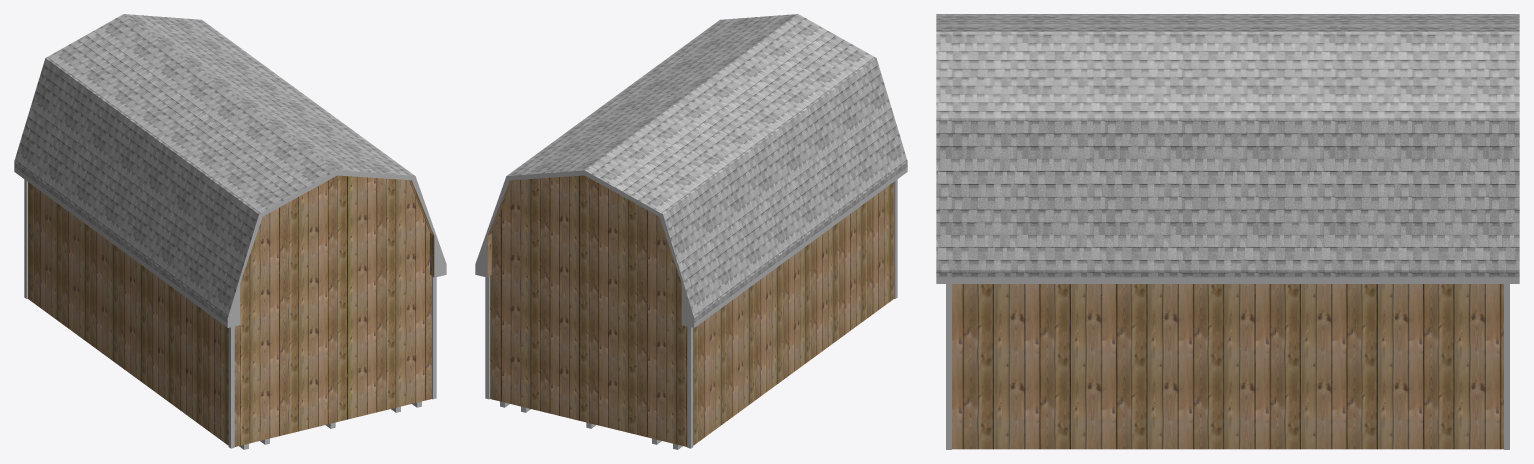
Rendered from Two Story Gambrel_14x24.obj.
The picture shows the model from 3 angles, left to right: view 1: azimuth 30°, elevation 25°; view 2: azimuth 150°, elevation 25°; view 3: azimuth 270°, elevation 25°; orthographic projection. The views are drawn at different scales.
Visible parts, largest first — view 1: Shed, Roof, Sides, Trim; view 2: Shed, Roof, Sides, Trim; view 3: Roof, Shed, Sides, Trim.
Part boxes in pixels (x1=…): Shed: x1=28, y1=175, x2=434, y2=446; Roof: x1=14, y1=14, x2=414, y2=322; Sides: x1=14, y1=167, x2=446, y2=327; Trim: x1=24, y1=179, x2=436, y2=448; Shed: x1=487, y1=175, x2=893, y2=446; Roof: x1=507, y1=14, x2=907, y2=322; Sides: x1=475, y1=167, x2=907, y2=327; Trim: x1=485, y1=179, x2=897, y2=448; Roof: x1=936, y1=14, x2=1519, y2=277; Shed: x1=952, y1=284, x2=1503, y2=449; Sides: x1=936, y1=277, x2=1519, y2=283; Trim: x1=946, y1=284, x2=1509, y2=449.
Size of the model in its own units: 4.51 by 5.14 by 7.62.
